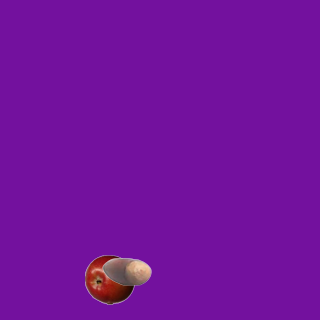Apple Braeburn: (84, 254, 134, 304)
Hazelnut: (101, 246, 151, 296)
